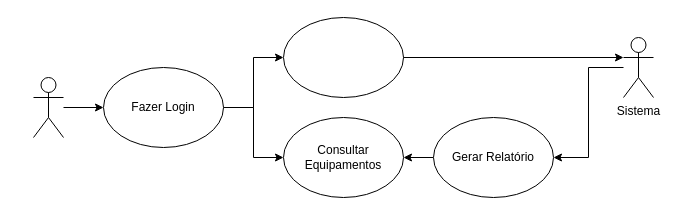
The diagram is 677 pixels wide and 215 high, and some of its shapes have lost their labels. The centre of each missing label's shape, as x and y in pixels:
Funcionário: the point at 48,107
Registrar Defeito: the point at 343,57
